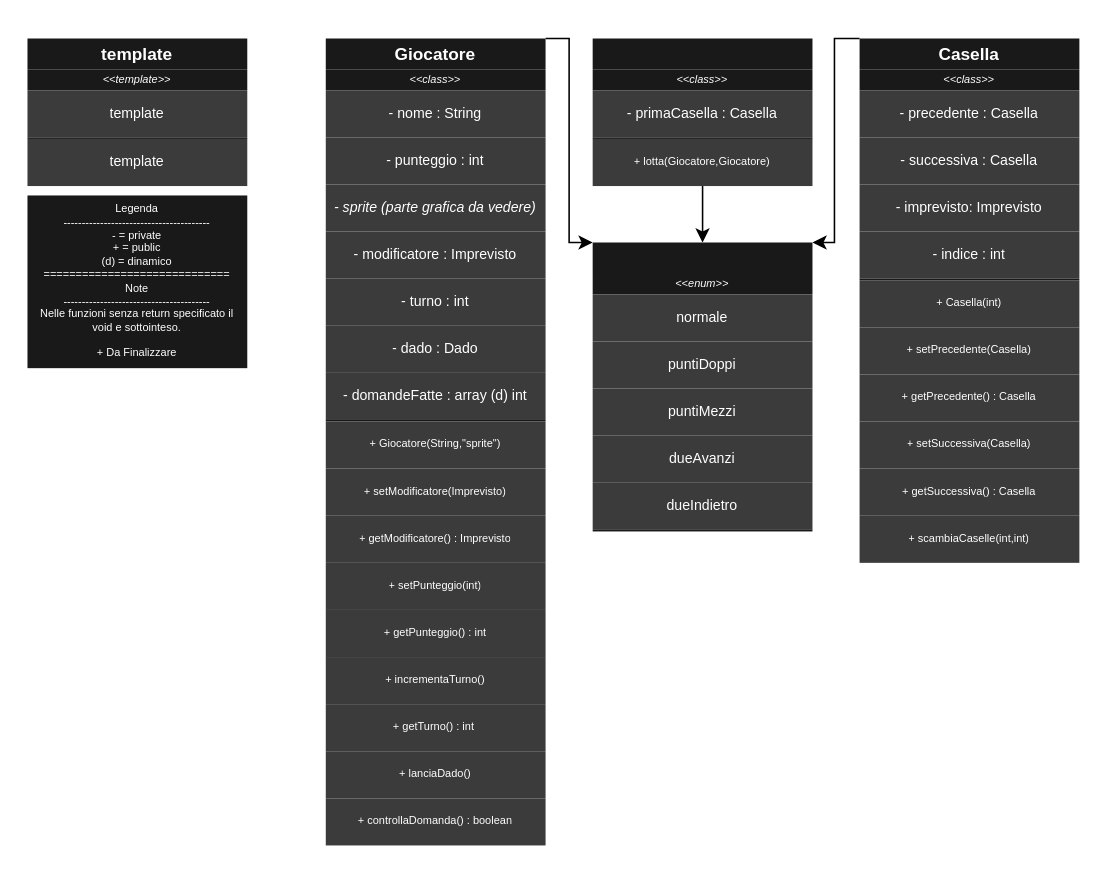
This 1105x873 diagram has some shape labels left out. The box of each missing label's shape, as (x1, y1, x2, y2) in pixels:
Imprevisti: (592, 242, 812, 531)
Tabellone: (592, 38, 812, 185)
